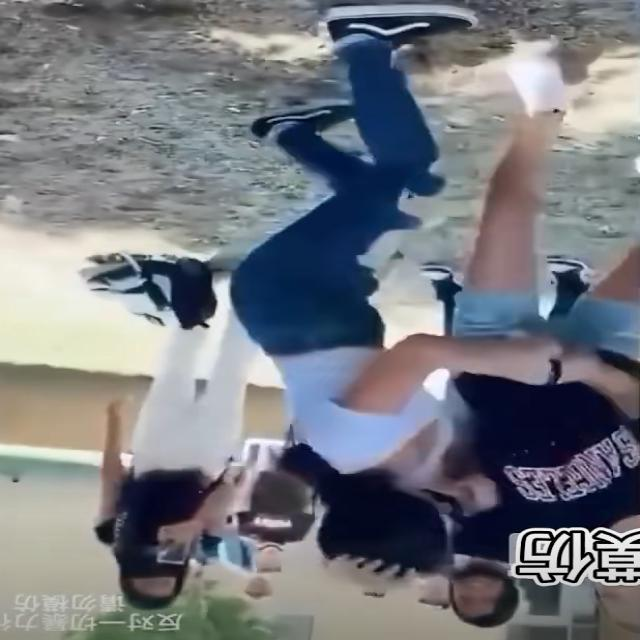fight: (235, 248, 640, 591)
nofight: (88, 252, 226, 618)
